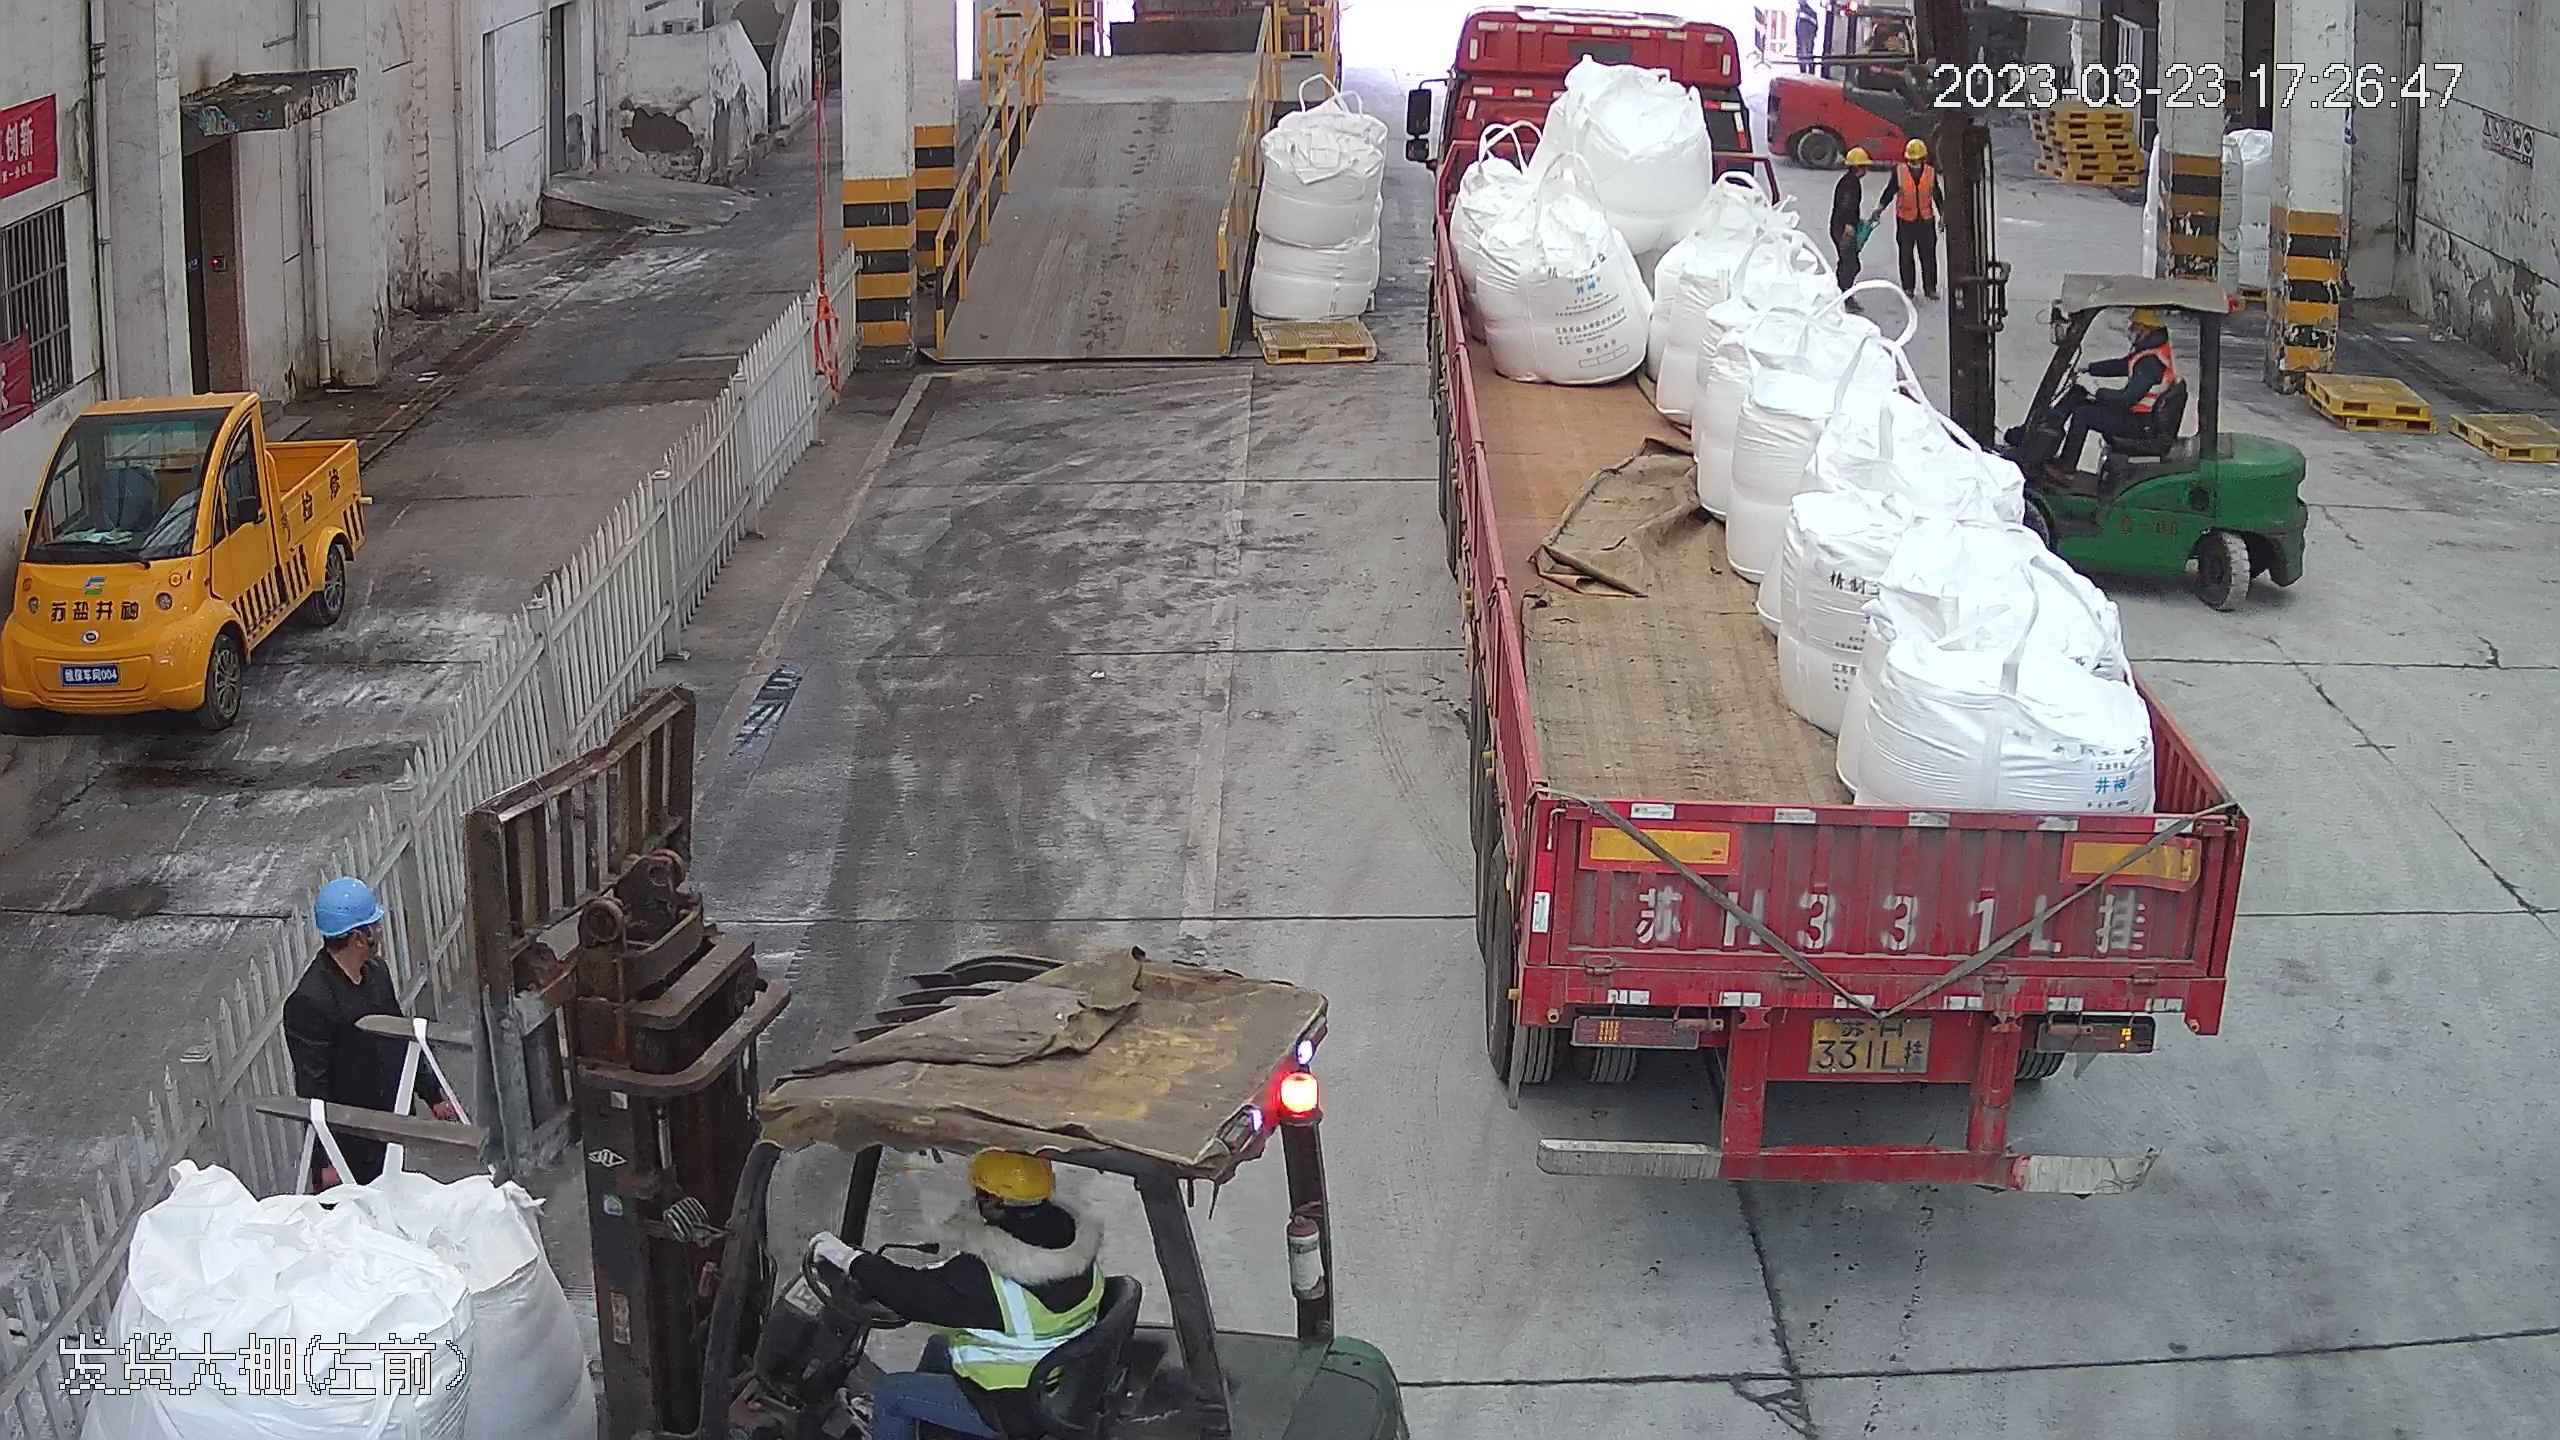head: (288, 872, 404, 1017), (2117, 305, 2179, 379), (1890, 136, 1940, 194), (1832, 142, 1878, 191)
helmet: (969, 1147, 1056, 1204), (313, 873, 387, 933), (2127, 303, 2167, 330), (1900, 137, 1931, 161), (1842, 147, 1870, 165)
people: (802, 1139, 1114, 1432), (281, 872, 460, 1188), (2058, 302, 2180, 468), (1875, 133, 1952, 308), (1815, 135, 1883, 303)
truck: (1408, 15, 2227, 1178)
